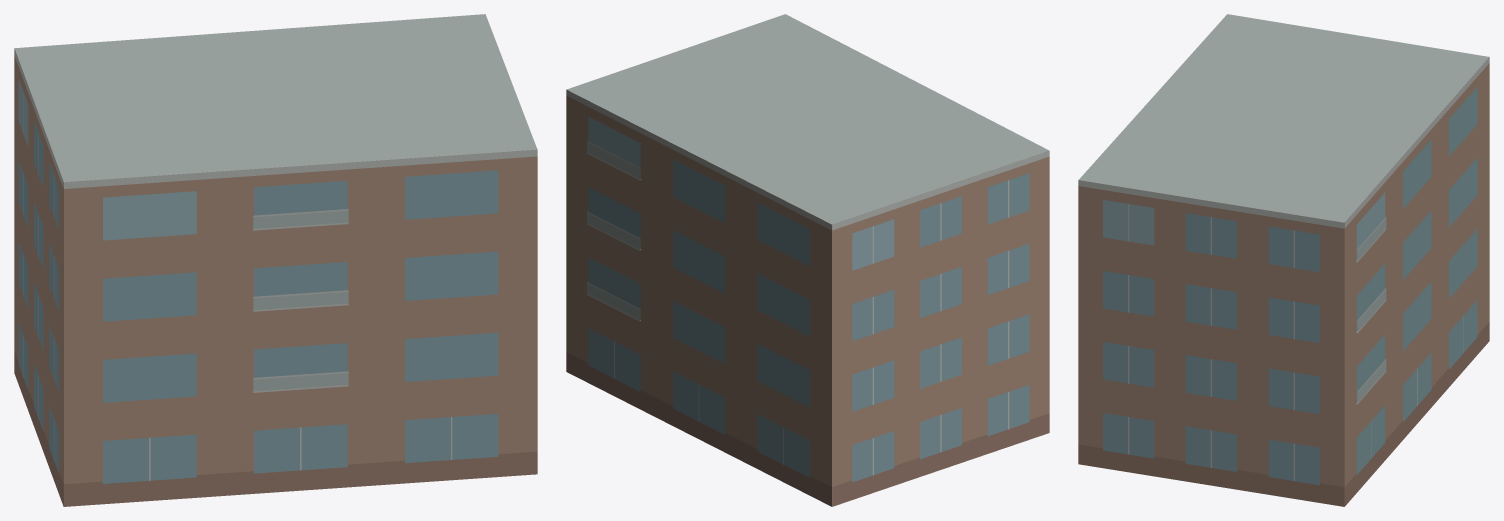
Rendered from survey-upis-32982938.glb.
The picture shows the model from 3 angles, left to right: view 1: azimuth 30°, elevation 25°; view 2: azimuth 150°, elevation 25°; view 3: azimuth 270°, elevation 25°; orthographic projection. The views are drawn at different scales.
Parts seen in each view (by area): view 1: survey-upis-32982938.tmp; view 2: survey-upis-32982938.tmp; view 3: survey-upis-32982938.tmp.
Boxes of the visible parts, x1=… form: survey-upis-32982938.tmp: x1=14, y1=14, x2=537, y2=506; survey-upis-32982938.tmp: x1=566, y1=14, x2=1049, y2=506; survey-upis-32982938.tmp: x1=1078, y1=14, x2=1489, y2=506.
Size of the model in its own units: 18.45 by 11.7 by 15.35.
